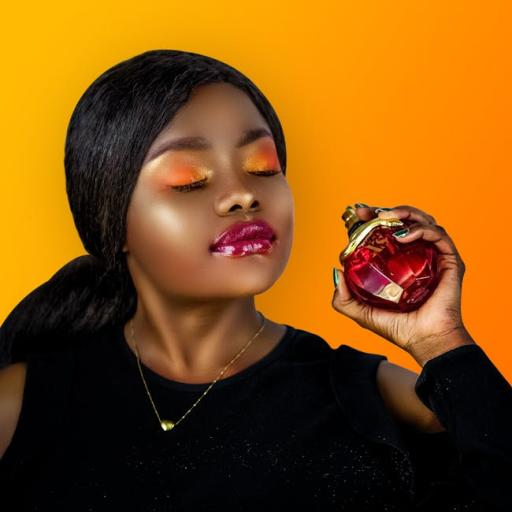lipstick: (211, 221, 275, 255)
